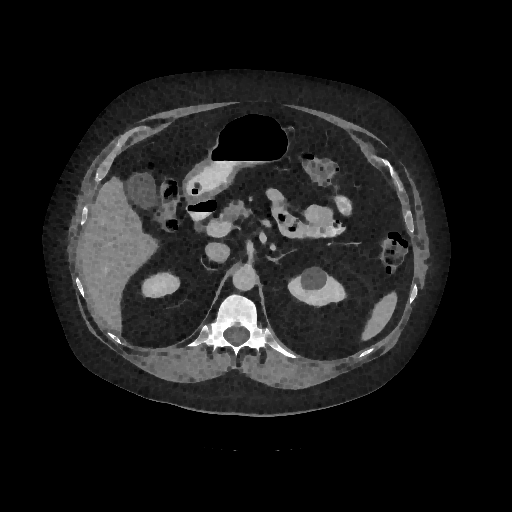Lesion: (298, 264, 329, 294)
